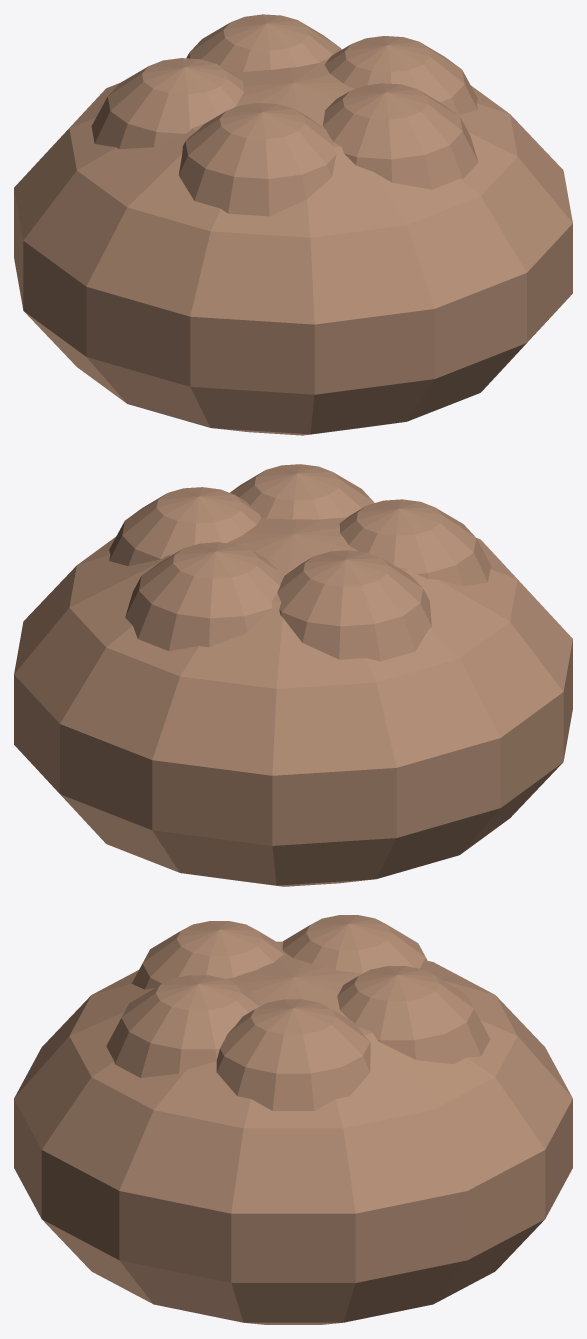
File: p_bowl.glb
3 renders of one model, top to bottom at view 1: azimuth 30°, elevation 25°; view 2: azimuth 150°, elevation 25°; view 3: azimuth 270°, elevation 25°, orthographic.
Parts seen in each view (by area): view 1: bowl; view 2: bowl; view 3: bowl.
Part boxes in pixels (x1=…): bowl: x1=14, y1=14, x2=572, y2=435; bowl: x1=14, y1=464, x2=572, y2=886; bowl: x1=14, y1=915, x2=572, y2=1324.
Bounding box in the file's own units: 0.3042 × 0.201 × 0.312.
